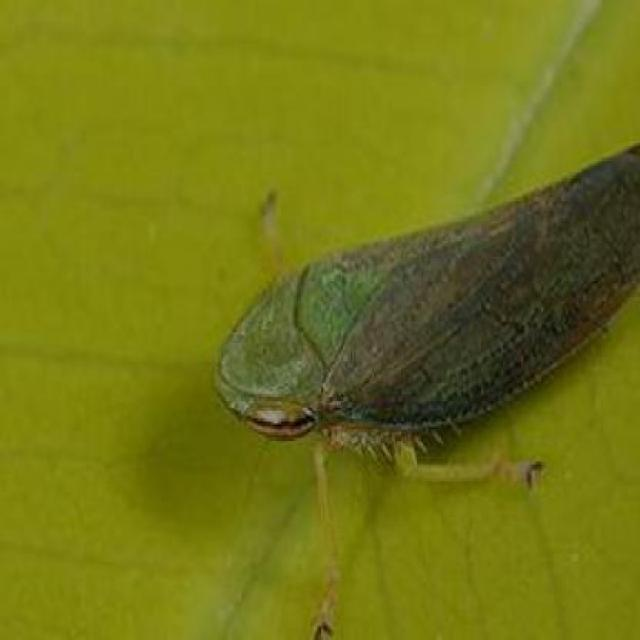green-leafhopper: (220, 141, 640, 629)
